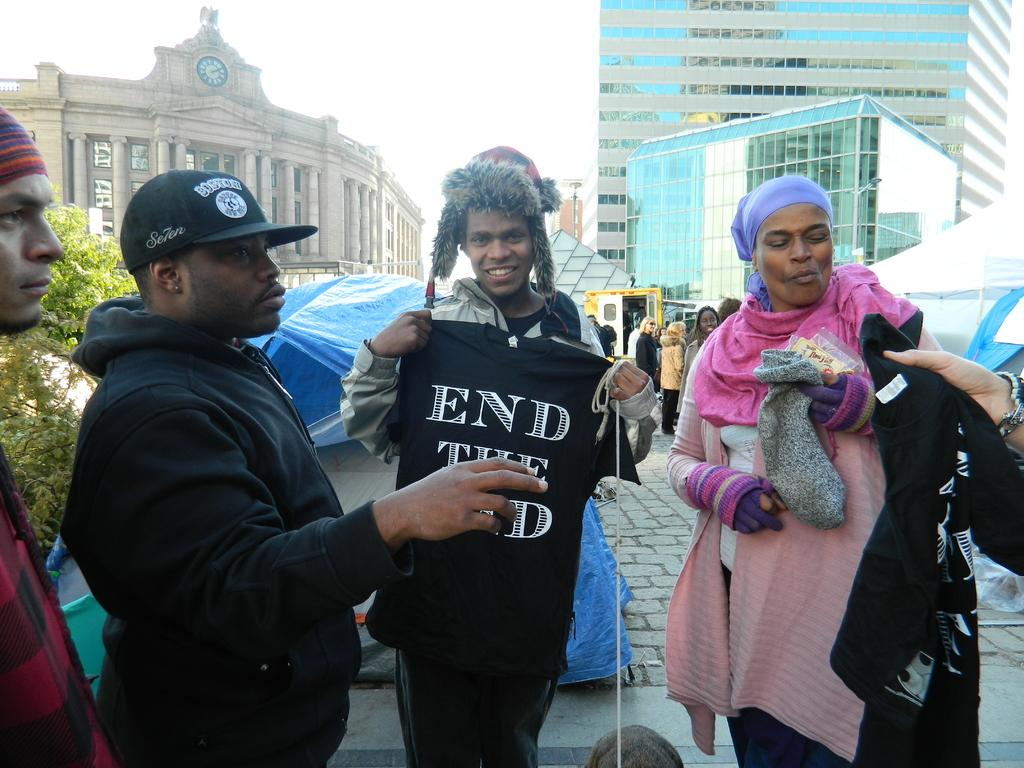Hat: (120, 168, 317, 274)
